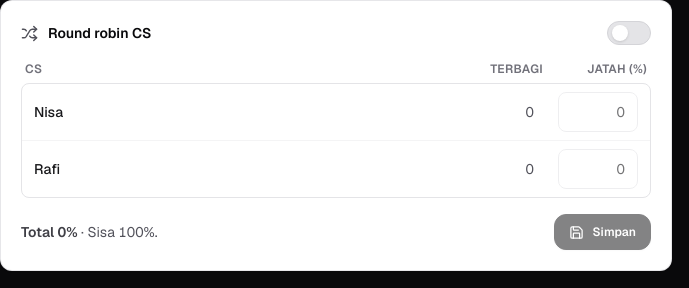
Scenario: RoundRobinPanel › kolom jatah hanya bisa diisi saat round robin aktif
Expected: the field labelled "Nisa" is disabled, [558,92,638,132]
Expected: the field labelled "Rafi" is disabled, [558,149,638,189]
Click the switch named "Aktifkan round robin CS": click(629, 33) [607,21,651,45]
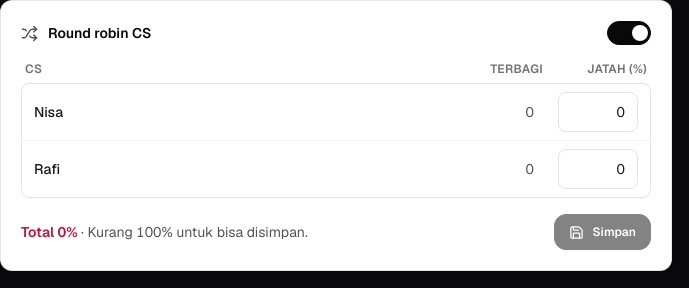
Expected: the field labelled "Nisa" is enabled, [558,92,638,132]
Click the switch named "Aktifkan round robin CS": click(629, 33) [607,21,651,45]
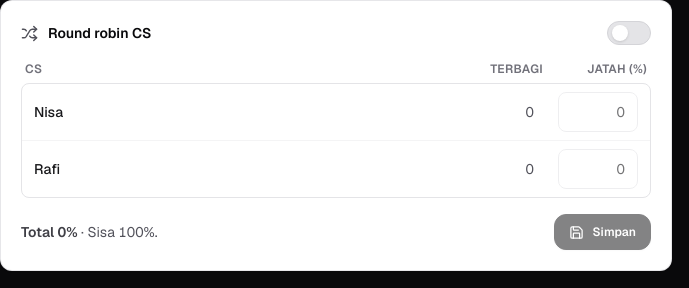
Expected: the field labelled "Nisa" is disabled, [558,92,638,132]
